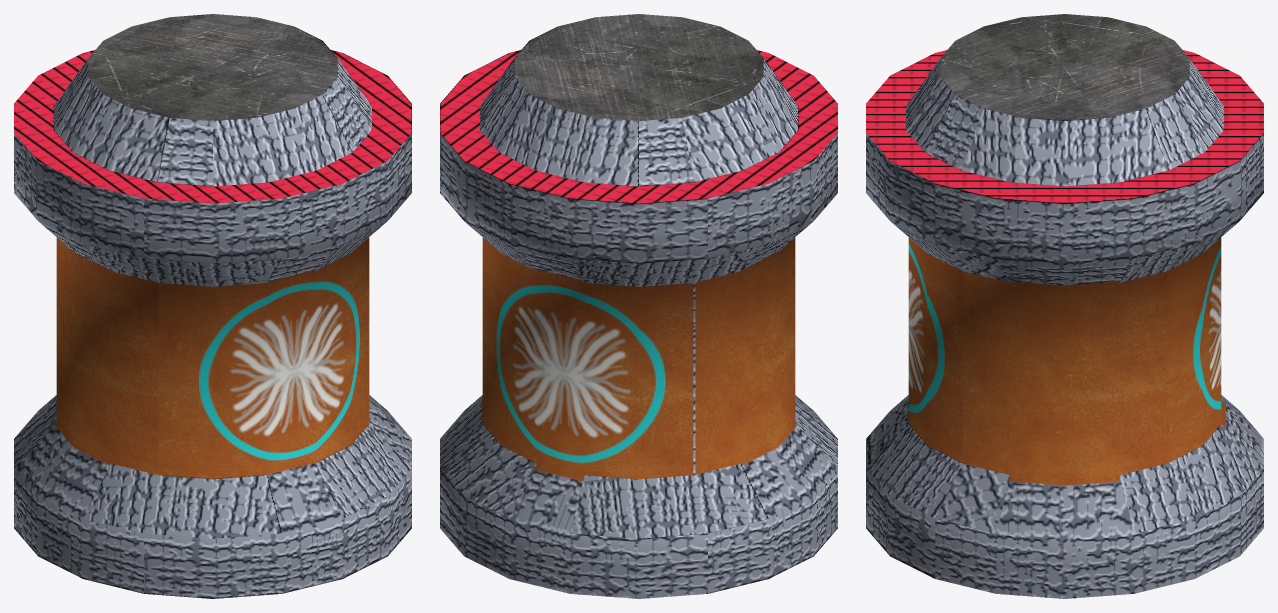
File: Shield_Charger.FBX
3 views of the same model, side by side, from view 1: azimuth 30°, elevation 25°; view 2: azimuth 150°, elevation 25°; view 3: azimuth 270°, elevation 25° (orthographic).
Visible parts, largest first — view 1: Cylinder001; view 2: Cylinder001; view 3: Cylinder001.
Boxes of the visible parts, bbox=[...] form: Cylinder001: bbox=[14, 14, 411, 598]; Cylinder001: bbox=[440, 14, 837, 598]; Cylinder001: bbox=[866, 14, 1263, 598].
Size of the model in its own units: 67.73 by 82.56 by 66.7.
1 material, 1 textured.
